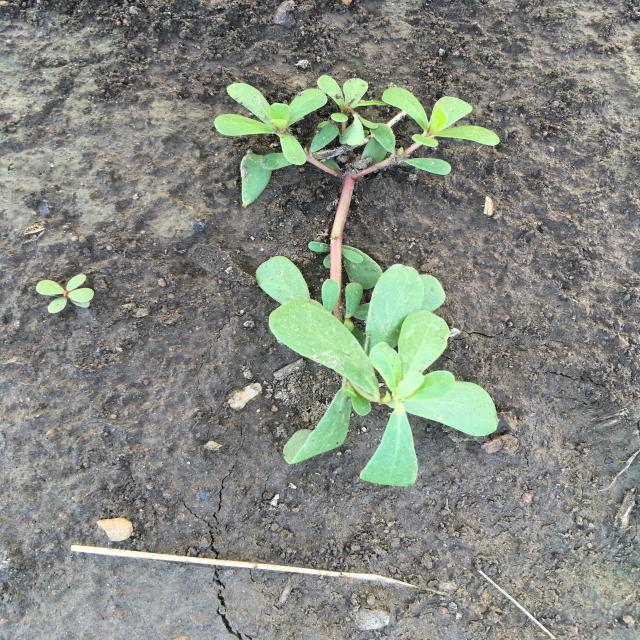Purslane: (214, 75, 500, 487), (36, 274, 94, 314)
